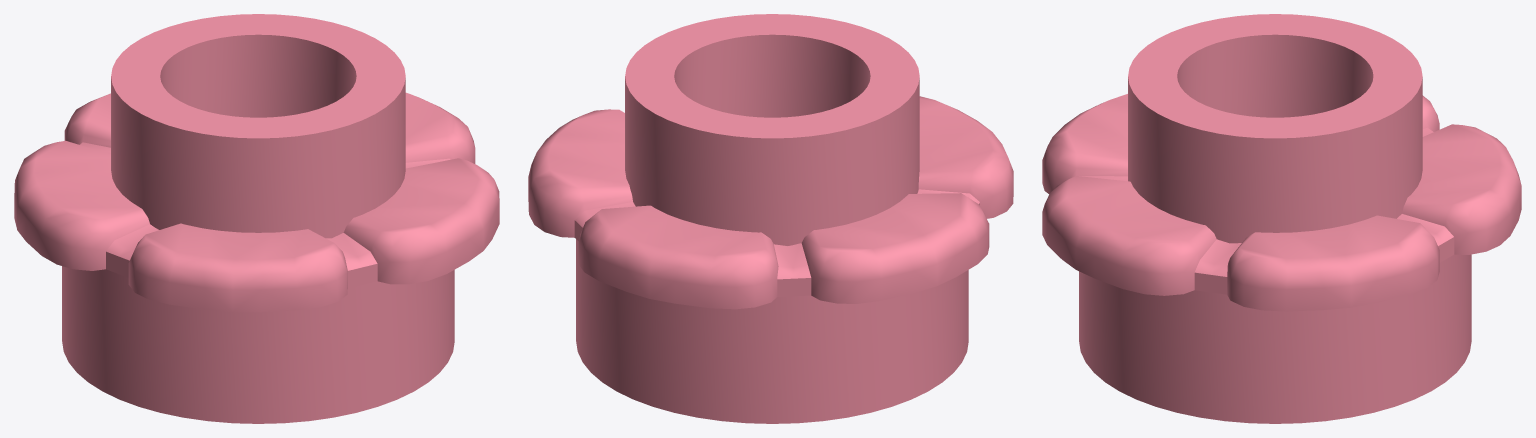
File: flower3.dae
3 renders of one model, left to right at view 1: azimuth 30°, elevation 25°; view 2: azimuth 150°, elevation 25°; view 3: azimuth 270°, elevation 25°, orthographic.
Parts seen in each view (by area): view 1: Inner-Node-UntitledModel_dot_io-0; view 2: Inner-Node-UntitledModel_dot_io-0; view 3: Inner-Node-UntitledModel_dot_io-0.
Part boxes in pixels (<box>): Inner-Node-UntitledModel_dot_io-0: <box>14,14,499,423</box>; Inner-Node-UntitledModel_dot_io-0: <box>528,14,1013,423</box>; Inner-Node-UntitledModel_dot_io-0: <box>1042,14,1521,423</box>.
Size of the model in its own units: 19.6 by 11.75 by 19.29.
